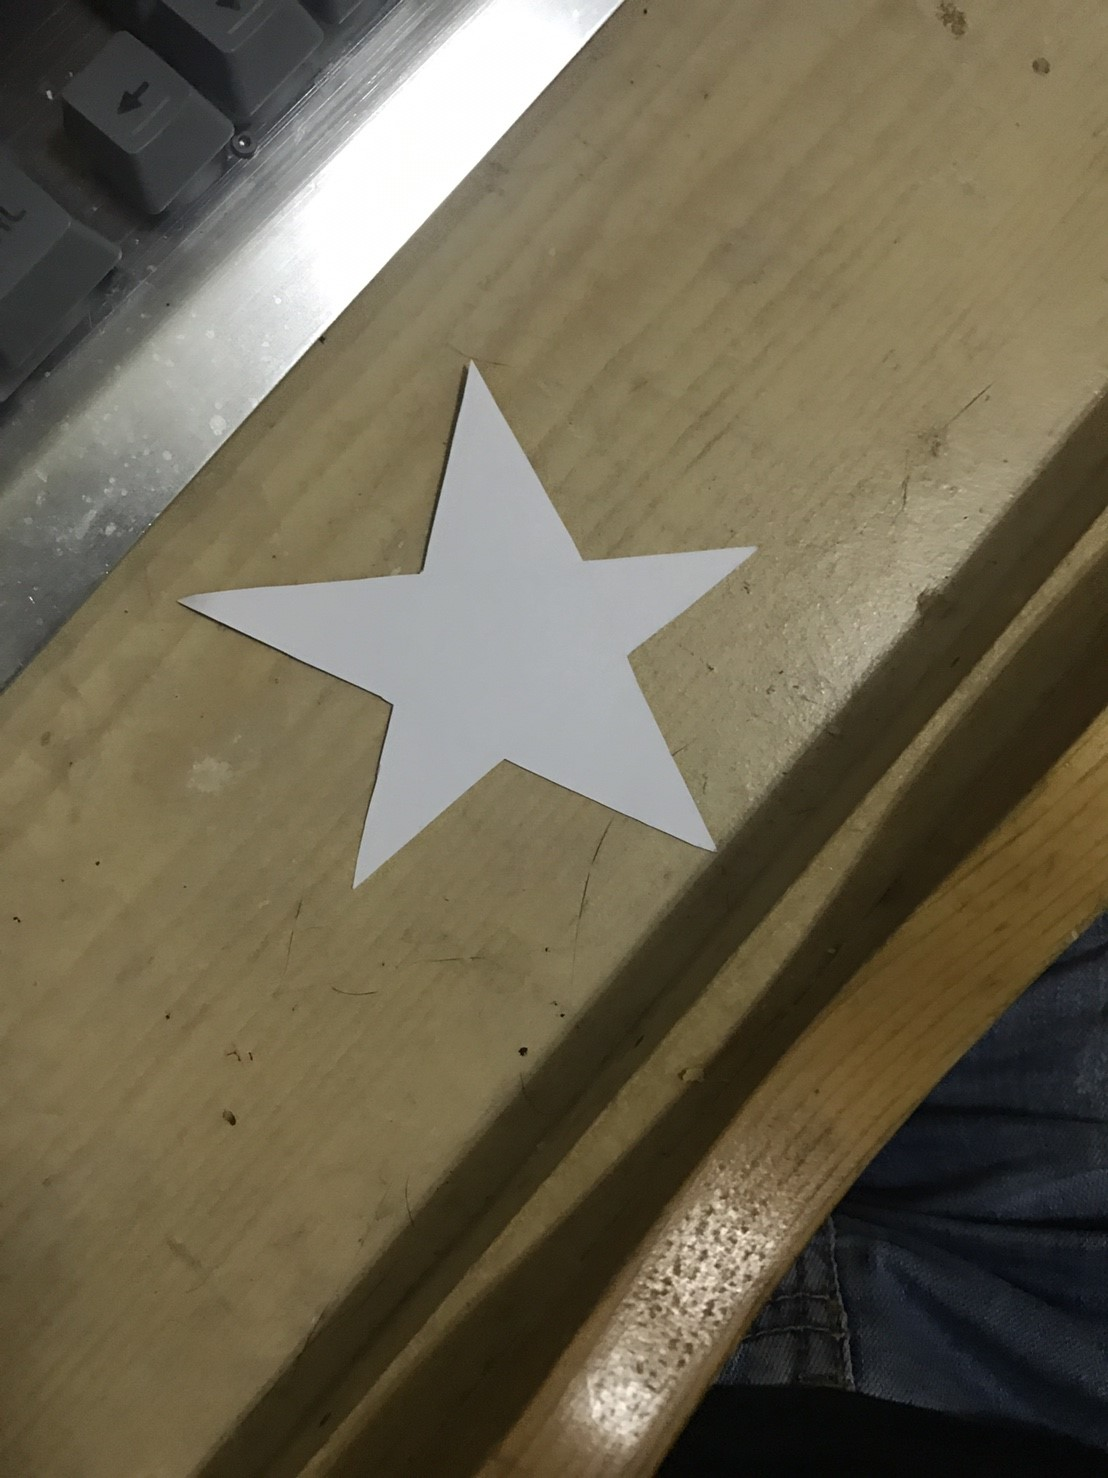star: (163, 344, 850, 909)
